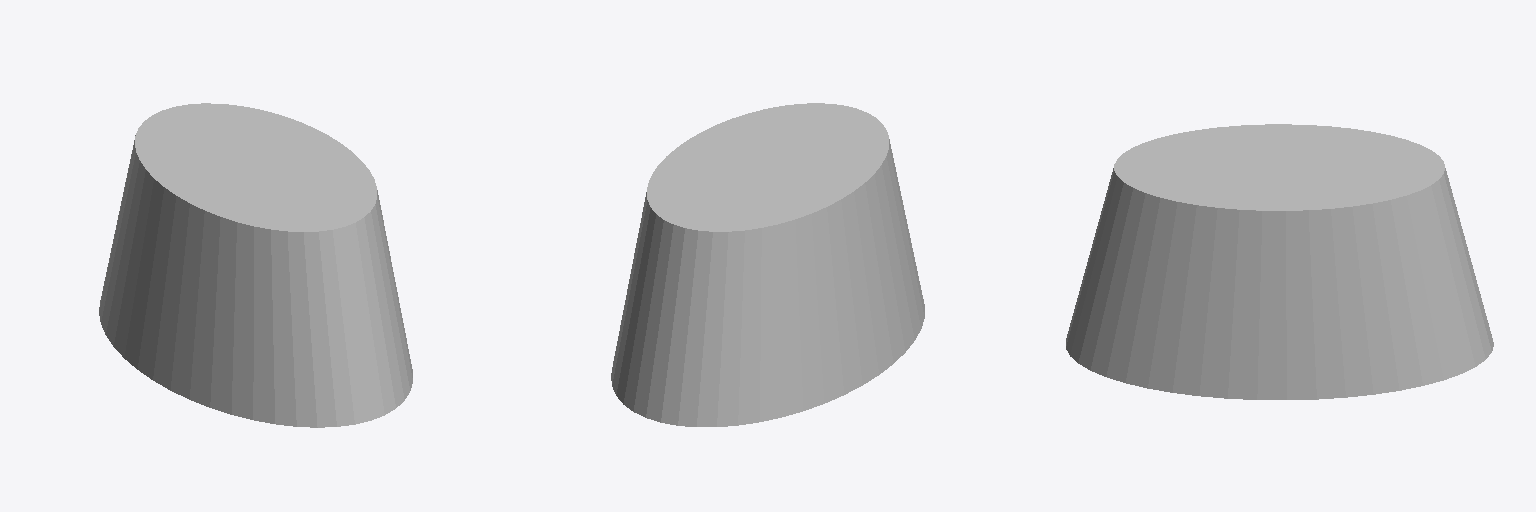
Rendered from Lower Torso.obj.
3 renders of one model, left to right at view 1: azimuth 30°, elevation 25°; view 2: azimuth 150°, elevation 25°; view 3: azimuth 270°, elevation 25°, orthographic.
Visible parts, largest first — view 1: Lower_Torso_Sphere.007; view 2: Lower_Torso_Sphere.007; view 3: Lower_Torso_Sphere.007.
Part boxes in pixels (bbox=[...]): Lower_Torso_Sphere.007: bbox=[99, 103, 412, 427]; Lower_Torso_Sphere.007: bbox=[611, 103, 924, 426]; Lower_Torso_Sphere.007: bbox=[1066, 124, 1493, 399].
Bounding box in the file's own units: 1.36 × 1 × 2.2.